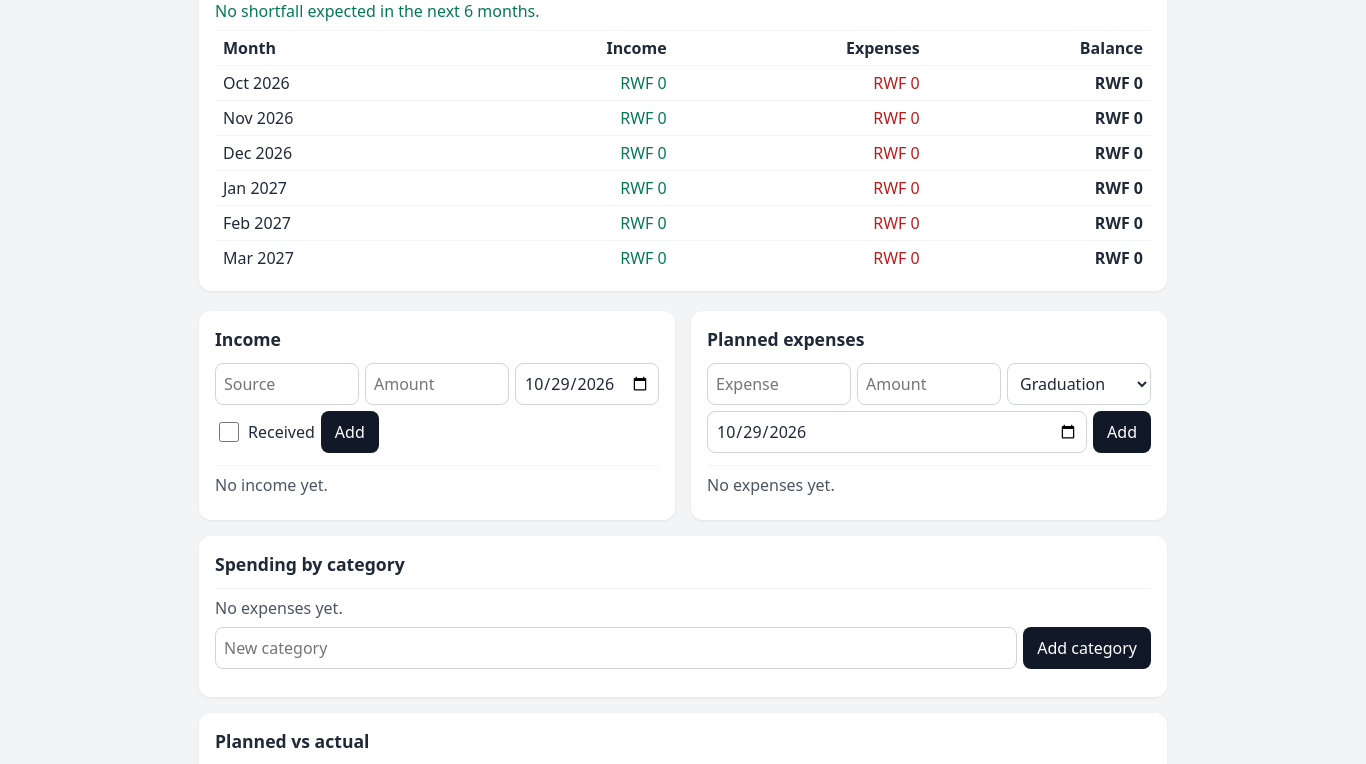
App › adds income and updates available
(page scrolled)
Type "Salary" into the field named "Income source" at (287, 384), box top-left (215, 363), bottom-right (359, 405)
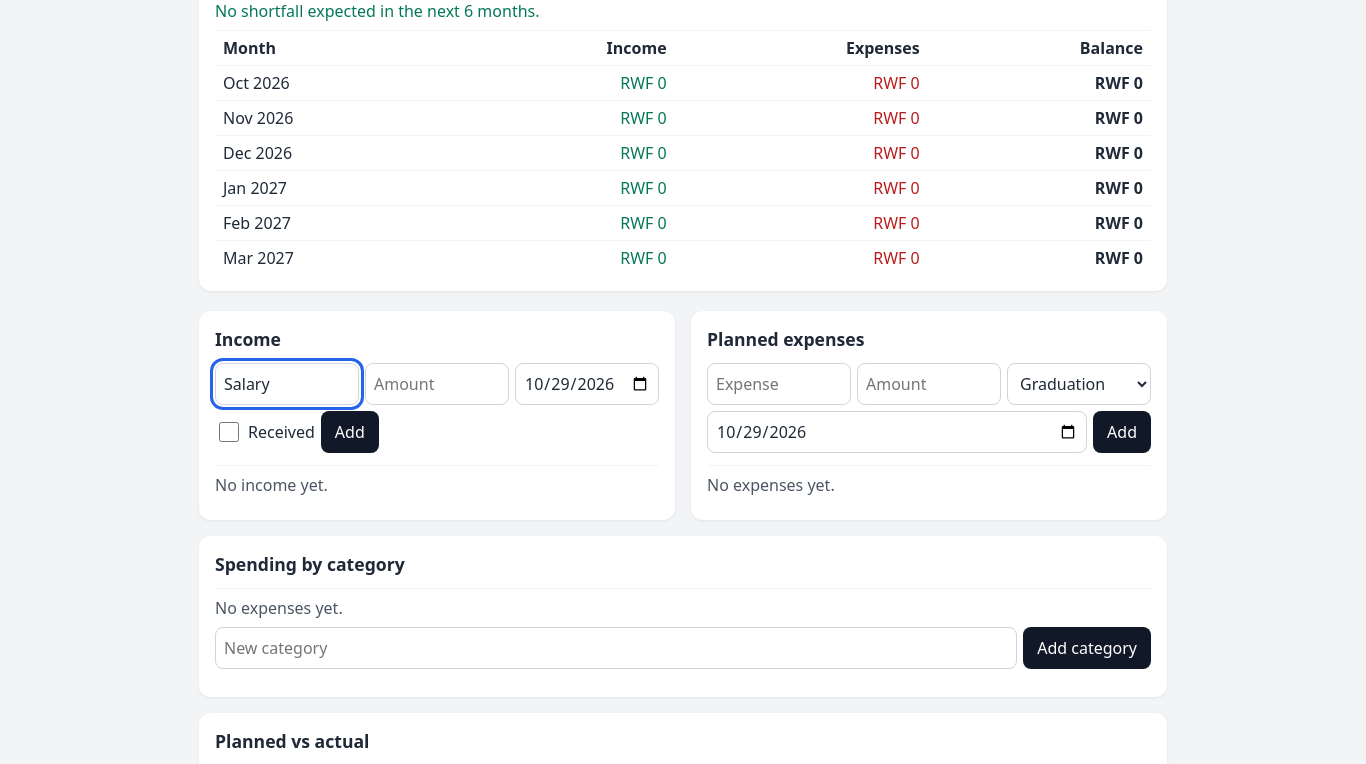
Type "100000" into the number field named "Income amount" at (437, 384), box top-left (365, 363), bottom-right (509, 405)
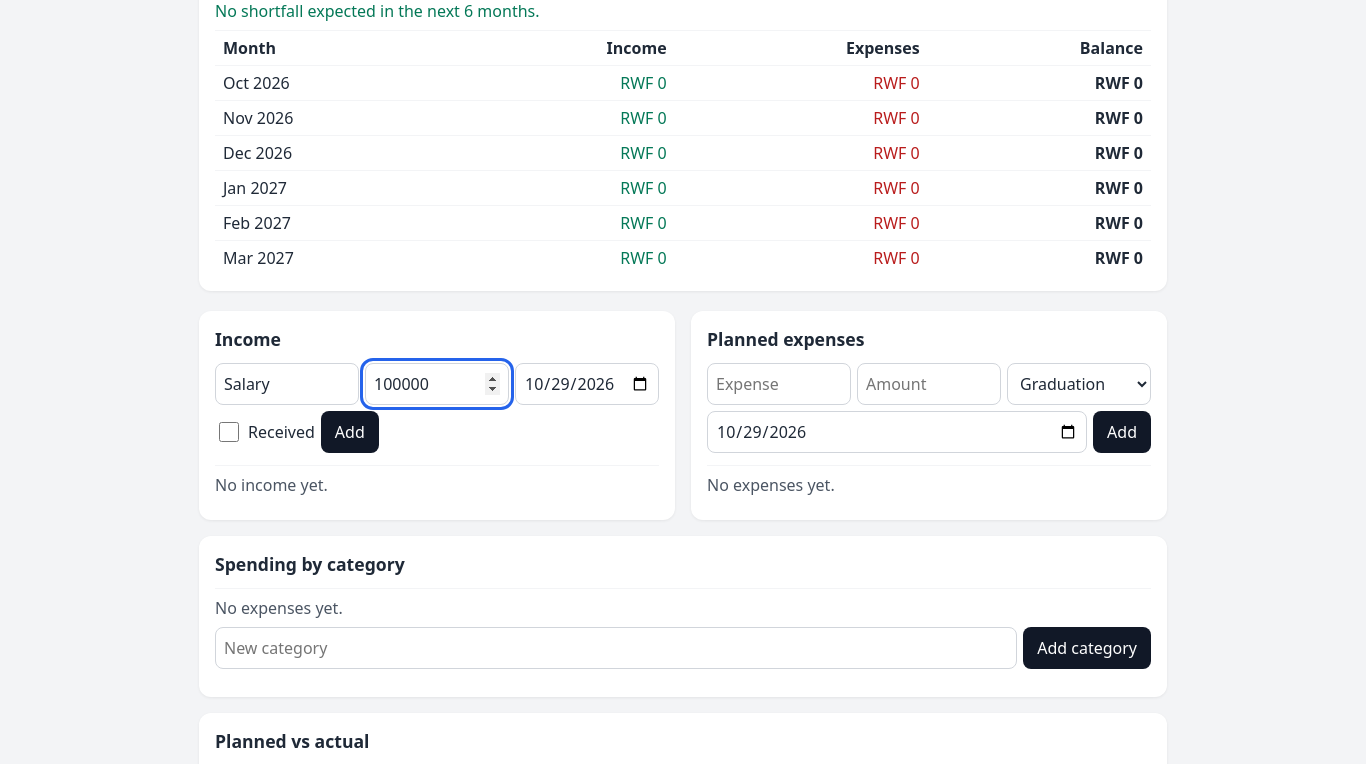
Click the checkbox labelled "Received" at (229, 432), box top-left (219, 422), bottom-right (239, 442)
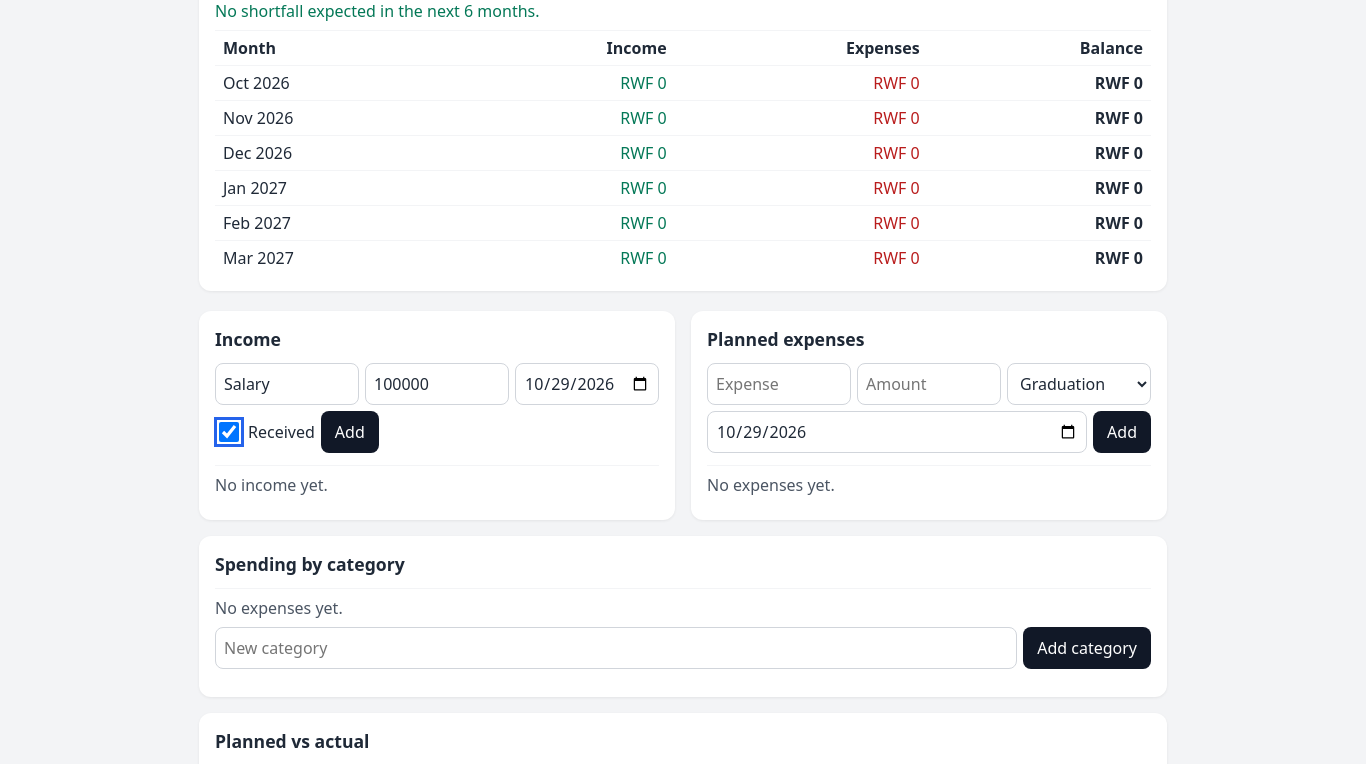
Click the 1st button "Add" at (350, 432), box top-left (321, 411), bottom-right (379, 453)
(page scrolled)
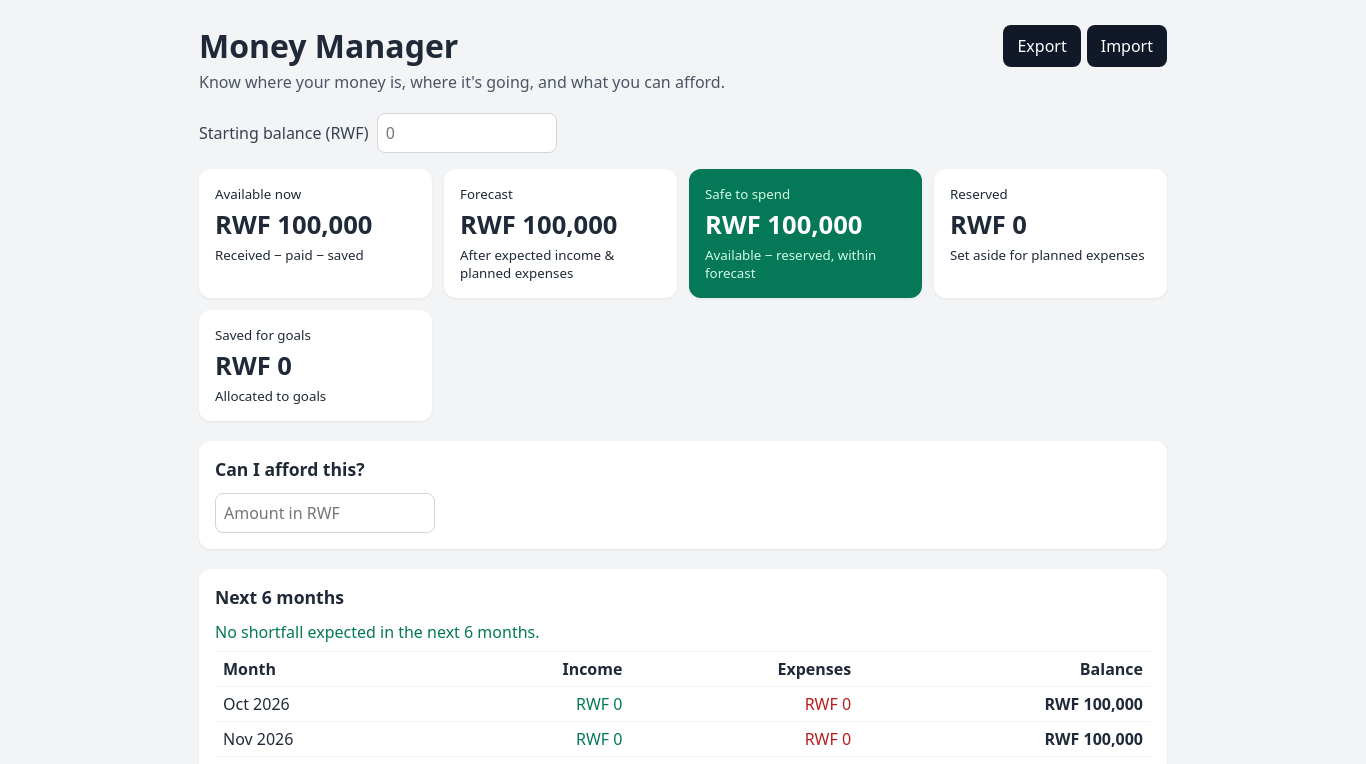
Check: the text "RWF 100,000" below "Available now" is shown, box top-left (215, 207), bottom-right (372, 242)
